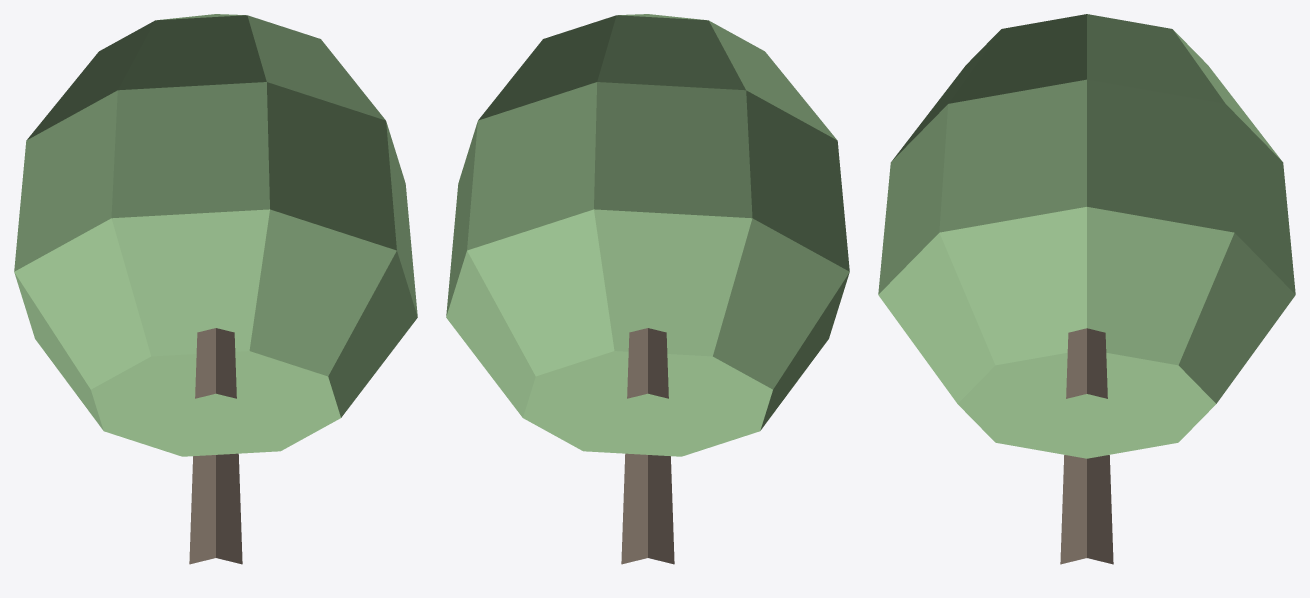
Rendered from tree-broadleaf.glb.
3 renders of one model, left to right at view 1: azimuth 30°, elevation 25°; view 2: azimuth 150°, elevation 25°; view 3: azimuth 270°, elevation 25°, orthographic.
Visible parts, largest first — view 1: tree-broadleaf; view 2: tree-broadleaf; view 3: tree-broadleaf.
Boxes of the visible parts, bbox=[...] form: tree-broadleaf: bbox=[14, 14, 417, 564]; tree-broadleaf: bbox=[446, 14, 849, 564]; tree-broadleaf: bbox=[878, 14, 1295, 564].
Size of the model in its own units: 0.68 by 1 by 0.68.
